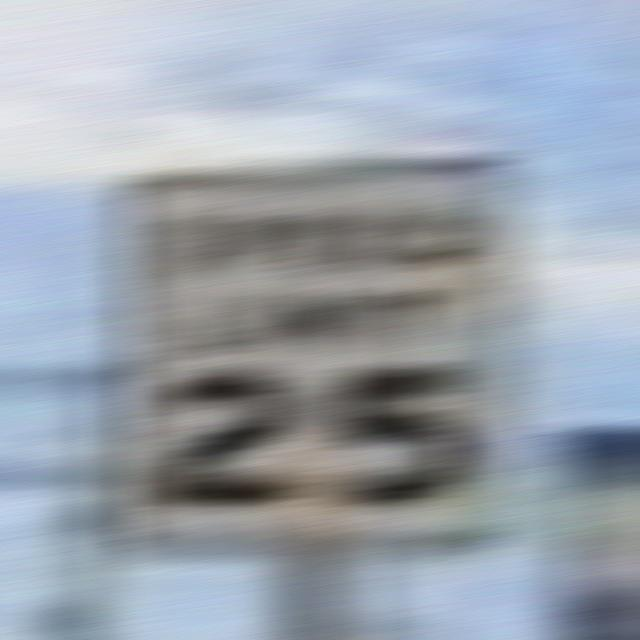speedLimit25: (120, 160, 501, 534)
